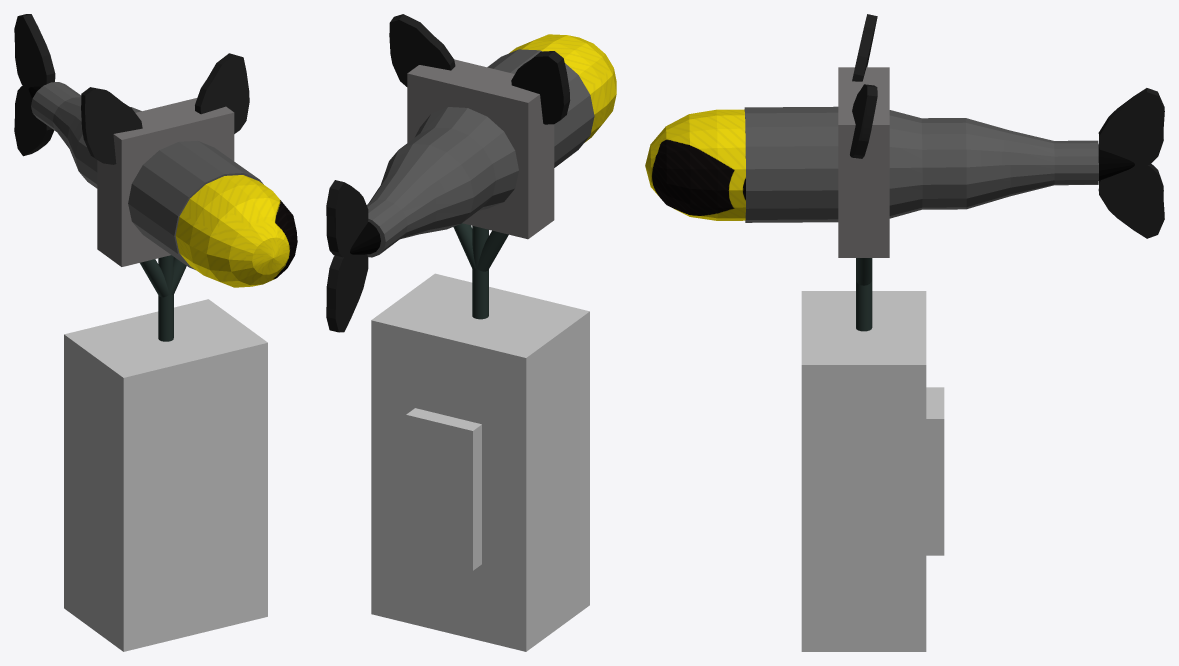
File: missile-launcher.fbx
3 views of the same model, side by side, from view 1: azimuth 30°, elevation 25°; view 2: azimuth 150°, elevation 25°; view 3: azimuth 270°, elevation 25° (orthographic). The views are drawn at different scales.
Visible parts, largest first — view 1: Cube_2_2, Capsule, Cylinder, Cube_2, Cylinder_1, Cylinder_1_2, Cylinder_2_2, Cylinder_2; view 2: Cube_2_2, Cylinder, Cube_2, Cube, Cylinder_1, Cylinder_1_2, Capsule, Cylinder_2_2, Cylinder_2, Cone; view 3: Cube_2_2, Cylinder, Capsule, Cube_2, Cylinder_1_2, Cube, Cylinder_1, Cylinder_2_2.
Boxes of the visible parts, <box> form: Cube_2_2: <box>64,299,267,651</box>; Capsule: <box>175,175,297,287</box>; Cylinder: <box>31,82,263,269</box>; Cube_2: <box>97,98,234,266</box>; Cylinder_1: <box>81,53,249,164</box>; Cylinder_1_2: <box>14,14,55,156</box>; Cylinder_2_2: <box>158,255,173,341</box>; Cylinder_2: <box>140,257,186,297</box>; Cube_2_2: <box>371,273,589,651</box>; Cylinder: <box>366,49,594,257</box>; Cube_2: <box>407,59,554,239</box>; Cube: <box>406,408,481,570</box>; Cylinder_1: <box>389,14,570,124</box>; Cylinder_1_2: <box>326,180,368,332</box>; Capsule: <box>509,34,616,142</box>; Cylinder_2_2: <box>472,226,488,319</box>; Cylinder_2: <box>453,223,508,271</box>; Cone: <box>350,222,380,254</box>; Cube_2_2: <box>801,291,926,651</box>; Cylinder: <box>744,106,1098,222</box>; Capsule: <box>645,109,745,220</box>; Cube_2: <box>838,67,889,257</box>; Cylinder_1_2: <box>1098,88,1164,238</box>; Cube: <box>926,387,944,555</box>; Cylinder_1: <box>850,14,877,158</box>; Cylinder_2_2: <box>856,280,872,331</box>.
Size of the model in its own units: 1.38 by 4.34 by 3.62.
Materials: 9 (1 with a texture image).
